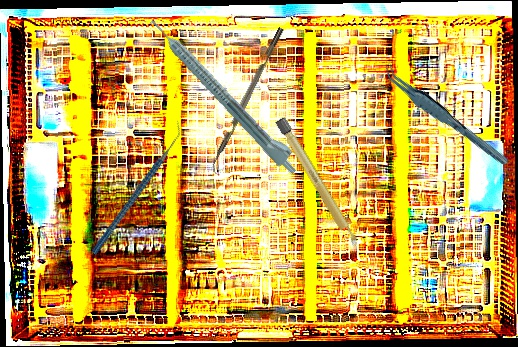Chopper: (58, 120, 215, 256), (206, 26, 291, 176)
Handpiece: (146, 9, 306, 178)
Scalpel Handle: (273, 116, 362, 250)
Tissue Forceps: (378, 51, 511, 180)
